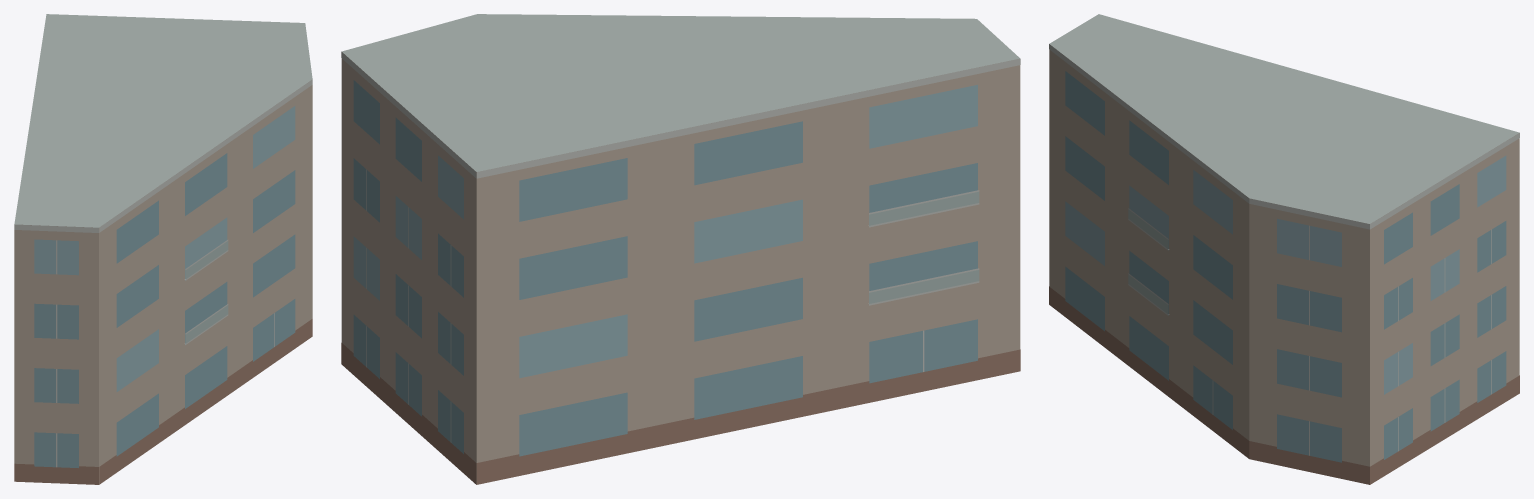
File: survey-upis-32791006.glb
3 renders of one model, left to right at view 1: azimuth 30°, elevation 25°; view 2: azimuth 150°, elevation 25°; view 3: azimuth 270°, elevation 25°, orthographic. The views are drawn at different scales.
Visible parts, largest first — view 1: survey-upis-32791006.tmp; view 2: survey-upis-32791006.tmp; view 3: survey-upis-32791006.tmp.
Part boxes in pixels (x1=…): survey-upis-32791006.tmp: x1=14, y1=14, x2=312, y2=484; survey-upis-32791006.tmp: x1=341, y1=14, x2=1020, y2=484; survey-upis-32791006.tmp: x1=1049, y1=14, x2=1519, y2=484.
Bounding box in the file's own units: 20.05 × 11.6 × 18.98.
